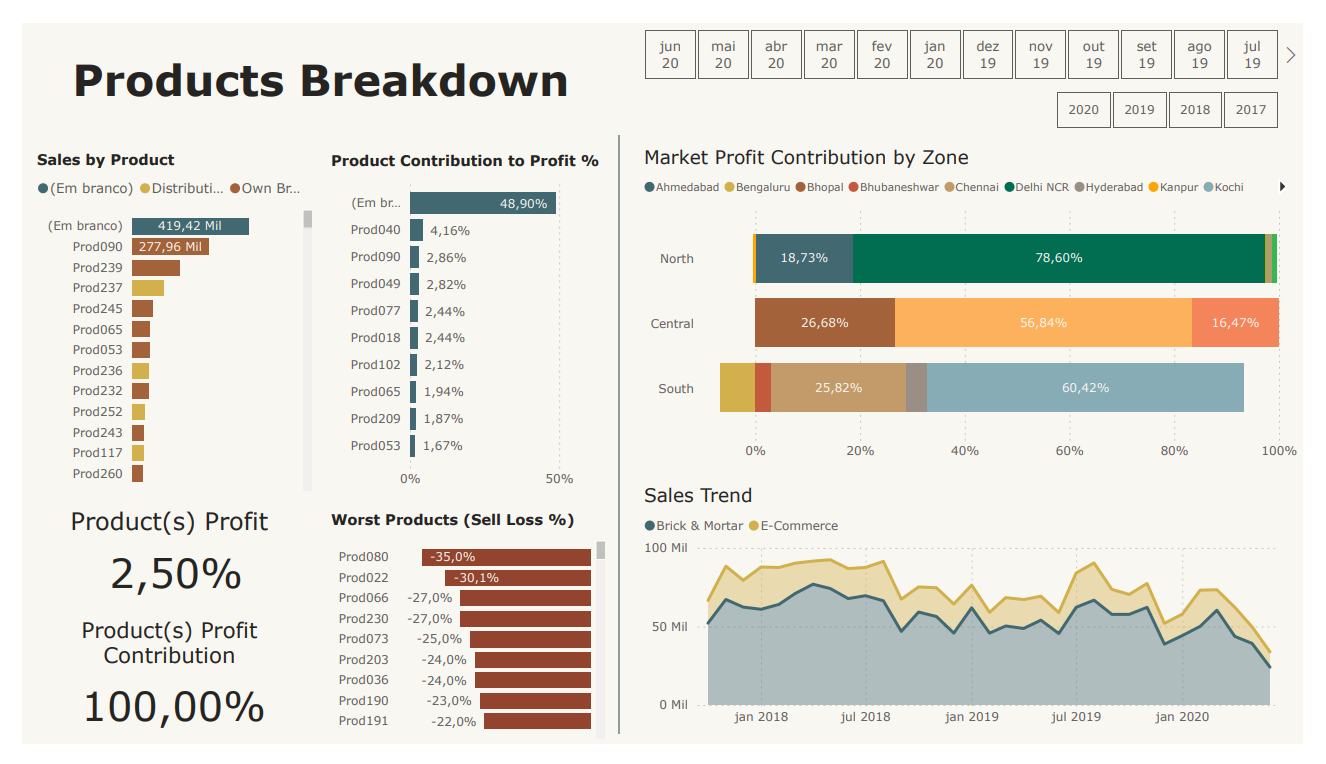

The dashboard page shown, as its layout file describes it:
{"tool":"powerbi","page":{"name":"Product Breakdown","canvas":[1280,720],"ordinal":3},"visuals":[{"type":"slicer","fields":{"Values":["sales date.date.Variation.Hierarquia de datas.Ano"]},"box":[1008.6,62.2,271.4,49.6],"z":0},{"type":"shape","box":[587,111.7,20.4,599.4],"z":1000},{"type":"slicer","fields":{"Values":["sales date.cy_date"]},"box":[597,0,683,63],"z":2000},{"type":"textbox","box":[1,25,596,62],"z":3000},{"type":"barChart","title":"Worst Products (Sell Loss %)","fields":{"Category":["sales products.product_code"],"Y":["Medidas Base.Profit %"]},"box":[294,472,293,248],"z":4000},{"type":"stackedAreaChart","title":"Sales Trend","fields":{"Category":["sales date.cy_date.Variation.Hierarquia de datas.Ano","sales date.cy_date.Variation.Hierarquia de datas.Trimestre","sales date.cy_date.Variation.Hierarquia de datas.Mês","sales date.cy_date.Variation.Hierarquia de datas.Dia"],"Y":["Medidas Base.Sales Qty"],"Series":["sales customers.customer_type"]},"box":[607,445,673,266],"z":5000},{"type":"barChart","title":"Sales by Product","fields":{"Y":["Medidas Base.Sales Qty"],"Category":["sales products.product_code"],"Series":["sales products.product_type"]},"box":[0,112,294,361],"z":6000},{"type":"barChart","title":"Product Contribution to Profit %","fields":{"Category":["sales products.product_code"],"Y":["Medidas Base.Profit contribution"]},"box":[294,113,293,360],"z":7000},{"type":"hundredPercentStackedBarChart","title":"Market Profit Contribution by Zone","fields":{"Category":["sales markets.zone"],"Y":["Medidas Base.Profit contribution"],"Series":["sales markets.markets_name"]},"box":[607,112,673,333],"z":8000},{"type":"card","title":"Worst Products (Sell Loss %)","fields":{"Values":["Medidas Base.Profit %"]},"box":[1,520,293,58],"z":9000},{"type":"textbox","box":[1,478,293,42],"z":10000},{"type":"card","title":"Worst Products (Sell Loss %)","fields":{"Values":["Medidas Base.Profit contribution"]},"box":[0,653,294,58],"z":11000},{"type":"textbox","box":[1,589,293,64],"z":12000}]}

Visuals, with their boxes in screenshot pixels (x1, y1, x2, y2), scaled from the page's 1280x720 canvas onto the 1326x764 screenshot:
slicer - sales date.date.Variation.Hierarquia de datas.Ano: rect(1045, 66, 1325, 119)
shape: rect(608, 119, 629, 755)
slicer - sales date.cy_date: rect(618, 0, 1325, 67)
textbox: rect(1, 27, 618, 92)
"Worst Products (Sell Loss %)" barChart: rect(305, 501, 608, 763)
"Sales Trend" stackedAreaChart: rect(629, 472, 1325, 754)
"Sales by Product" barChart: rect(0, 119, 305, 502)
"Product Contribution to Profit %" barChart: rect(305, 120, 608, 502)
"Market Profit Contribution by Zone" hundredPercentStackedBarChart: rect(629, 119, 1325, 472)
"Worst Products (Sell Loss %)" card: rect(1, 552, 305, 613)
textbox: rect(1, 507, 305, 552)
"Worst Products (Sell Loss %)" card: rect(0, 693, 305, 754)
textbox: rect(1, 625, 305, 693)
